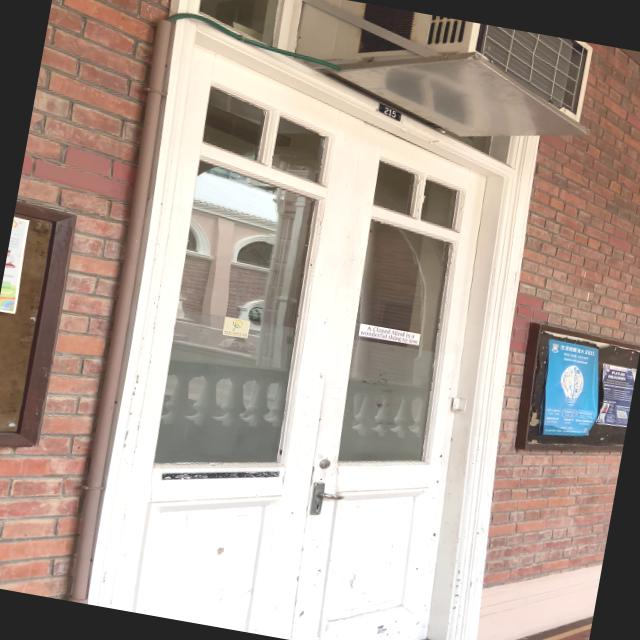room215: (374, 100, 404, 122)
